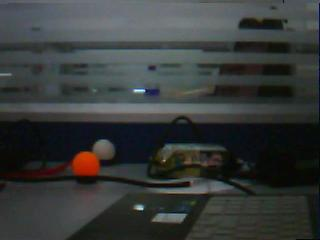oball: (72, 153, 100, 176)
